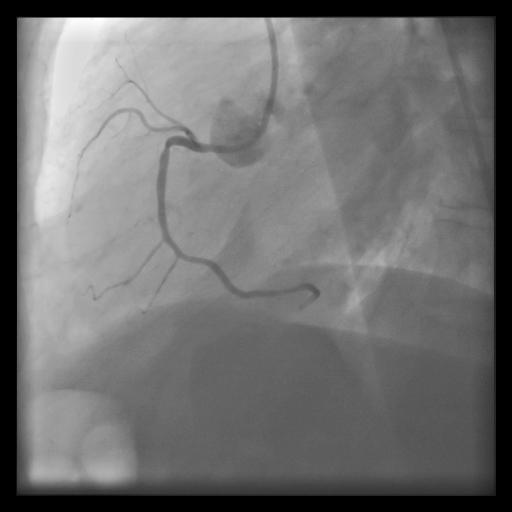Stenosis: (159, 137, 176, 154)
